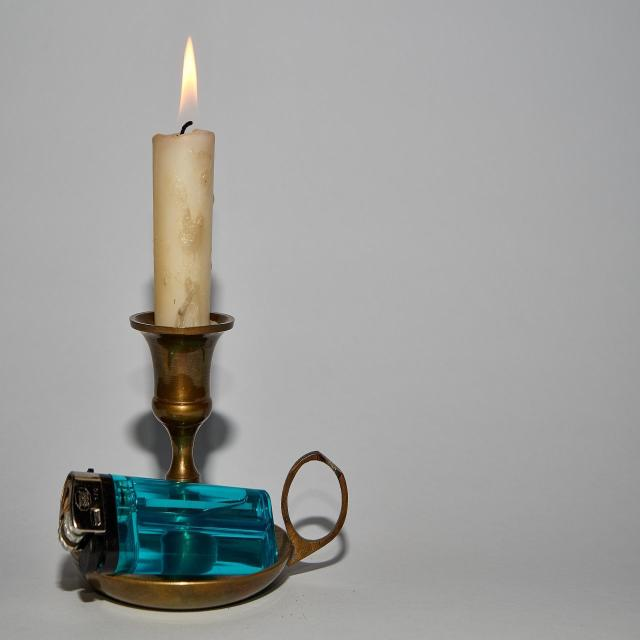Fire_Save: (151, 34, 215, 328)
